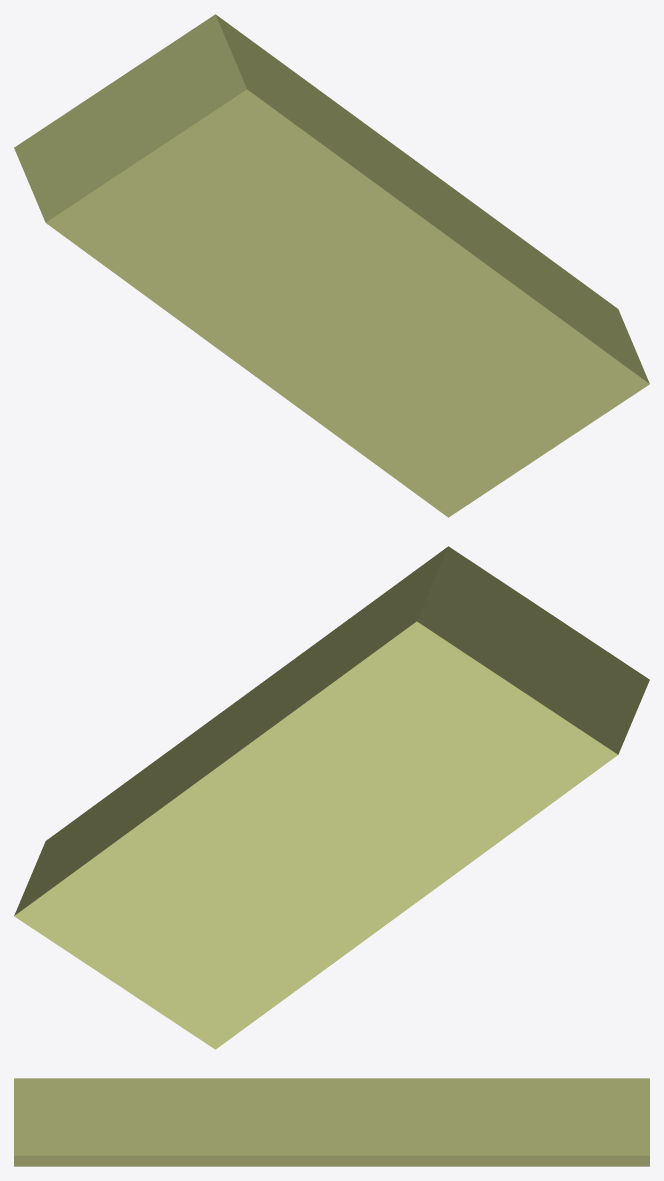
3 views of the same model, one above another, from view 1: azimuth 30°, elevation 25°; view 2: azimuth 150°, elevation 25°; view 3: azimuth 270°, elevation 25° (orthographic). The views are drawn at different scales.
Parts seen in each view (by area): view 1: 0_1_3_2_1_1_3_2_2_1_1_0; view 2: 0_1_3_2_1_1_3_2_2_1_1_0; view 3: 0_1_3_2_1_1_3_2_2_1_1_0.
Boxes of the visible parts, x1,y1,x2,y2 form: 0_1_3_2_1_1_3_2_2_1_1_0: [14, 14, 649, 517]; 0_1_3_2_1_1_3_2_2_1_1_0: [14, 546, 649, 1049]; 0_1_3_2_1_1_3_2_2_1_1_0: [14, 1078, 649, 1166].
Bounding box in the file's own units: 3.01 × 2.06 × 9.
